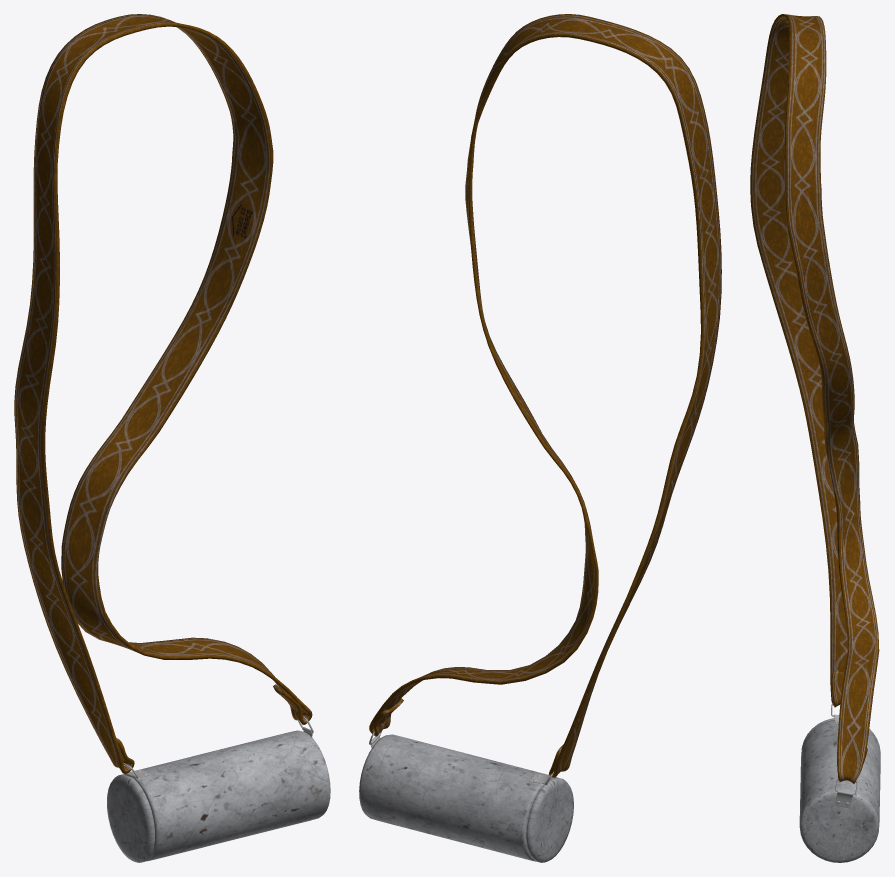
Rendered from modelo12.glb.
3 views of the same model, side by side, from view 1: azimuth 30°, elevation 25°; view 2: azimuth 150°, elevation 25°; view 3: azimuth 270°, elevation 25° (orthographic). The views are drawn at different scales.
Visible parts, largest first — view 1: PortaTreco-EX; view 2: PortaTreco-EX; view 3: PortaTreco-EX.
Boxes of the visible parts, bbox=[...] form: PortaTreco-EX: bbox=[14, 14, 330, 862]; PortaTreco-EX: bbox=[359, 14, 721, 862]; PortaTreco-EX: bbox=[750, 14, 880, 862].
Bounding box in the file's own units: 0.4219 × 1.09 × 0.1719.
Materials: 1 (1 with a texture image).
